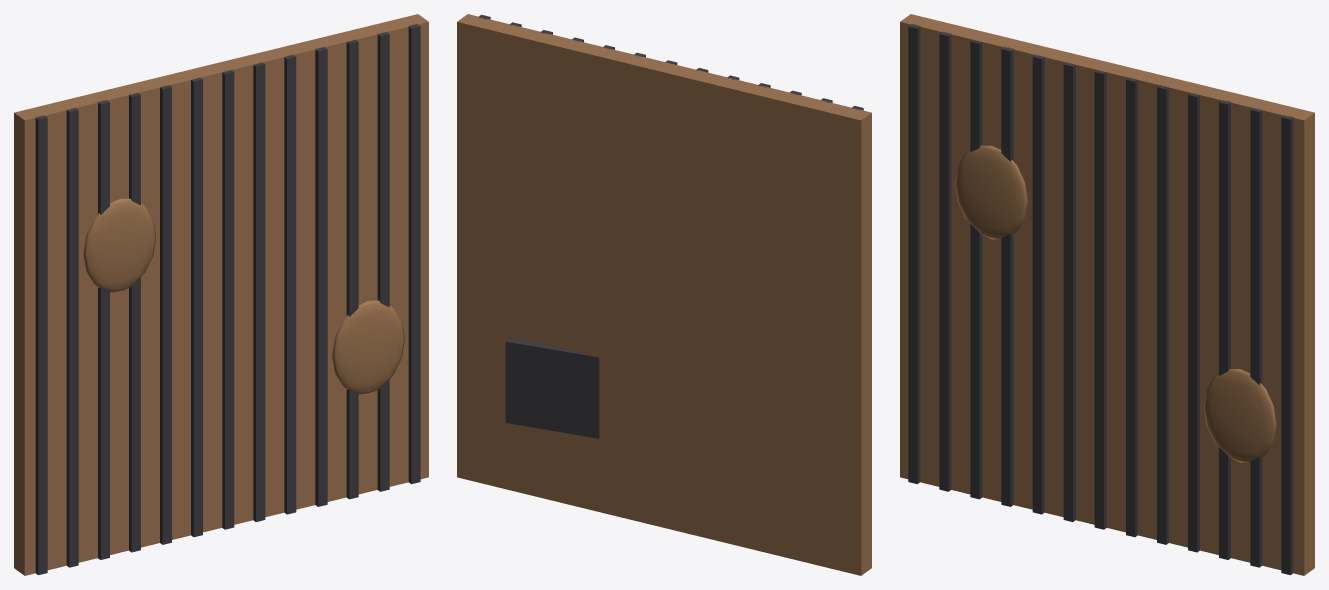
Rendered from prop_shutter_sabi.glb.
3 views of the same model, side by side, from view 1: azimuth 30°, elevation 25°; view 2: azimuth 150°, elevation 25°; view 3: azimuth 330°, elevation 25° (orthographic).
Visible parts, largest first — view 1: shutter_sabi; view 2: shutter_sabi; view 3: shutter_sabi.
Part boxes in pixels (x1,y1,x2,y2): shutter_sabi: (14, 14, 428, 575); shutter_sabi: (457, 14, 871, 575); shutter_sabi: (900, 14, 1314, 575).
Bounding box in the file's own units: 2.6 × 2.8 × 0.2544.
